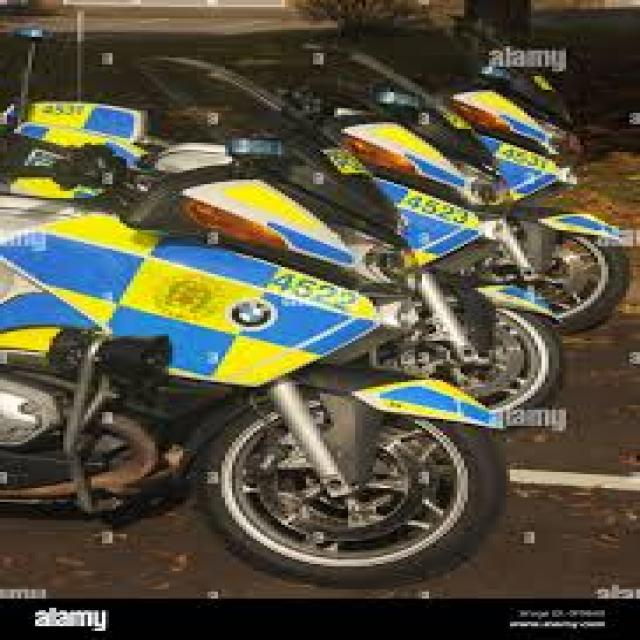bike: (0, 52, 509, 590), (268, 33, 566, 424), (413, 34, 640, 334)
